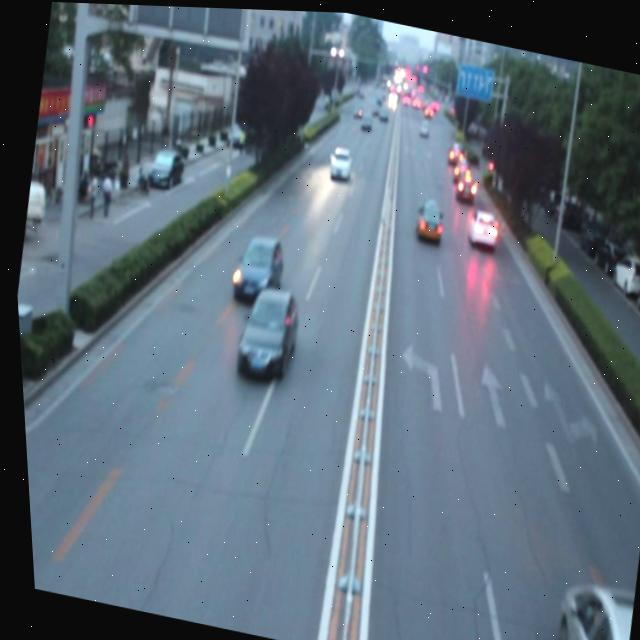car: (225, 277, 300, 381), (537, 567, 631, 640), (224, 225, 284, 301), (409, 192, 444, 237), (462, 200, 498, 243), (321, 140, 352, 178), (451, 166, 477, 197)
